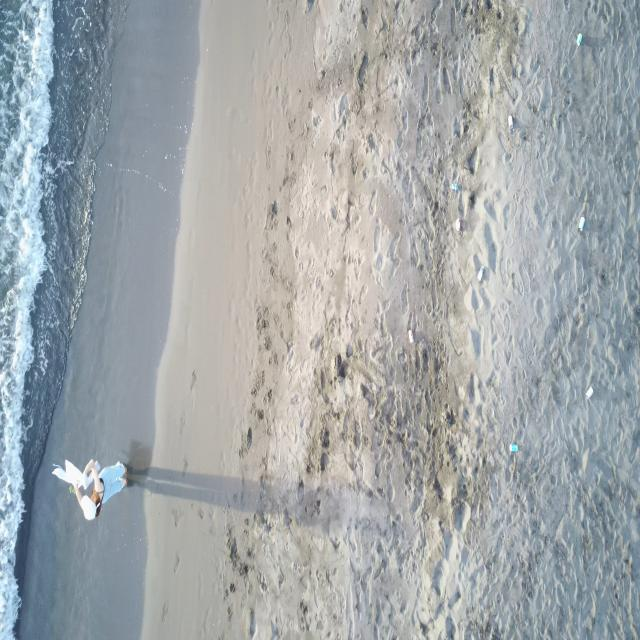Garbage: (449, 180, 460, 191), (577, 216, 584, 231), (584, 386, 592, 399), (476, 267, 484, 280), (455, 218, 462, 232), (507, 115, 512, 131), (575, 33, 582, 44), (407, 328, 412, 343), (510, 443, 516, 452)
